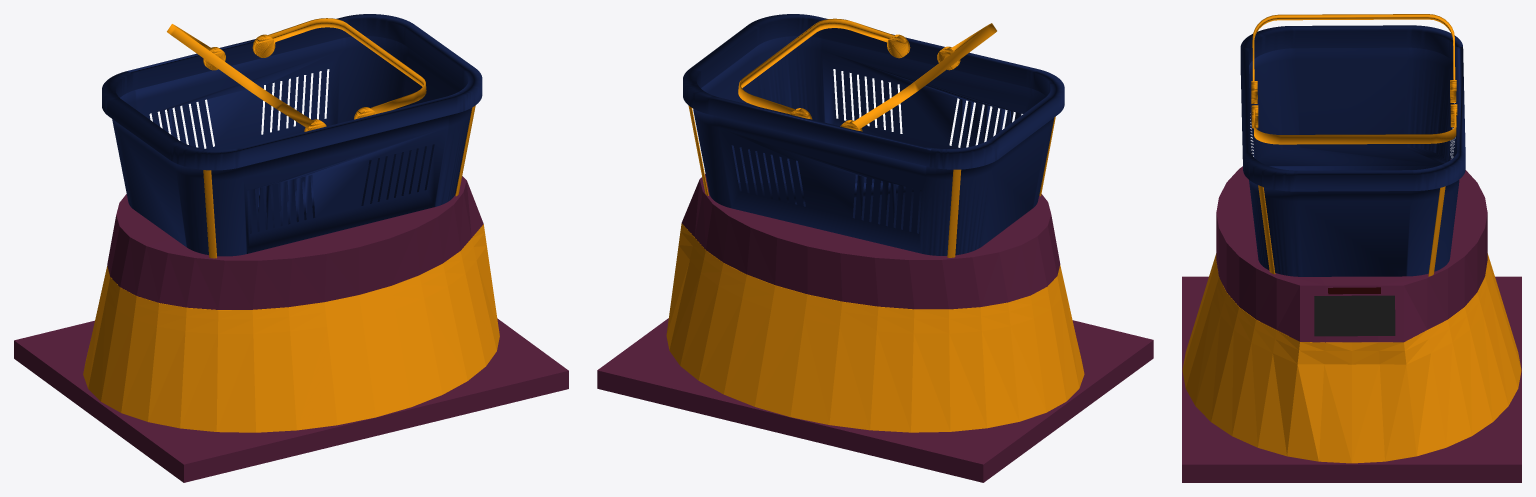
Rendered from BasketBotModel.dae.
The picture shows the model from 3 angles, left to right: view 1: azimuth 30°, elevation 25°; view 2: azimuth 150°, elevation 25°; view 3: azimuth 270°, elevation 25°; orthographic projection.
Visible parts, largest first — view 1: Basket, Body, ScreenBody, WheelBase, BasketHolder_Rear_Right; view 2: Basket, Body, ScreenBody, WheelBase, BasketHolder_Rear_Left; view 3: Basket, Body, ScreenBody, WheelBase, InfoScreen, BasketHolder_Front_Left, BasketHolder_Front_Right, ProductScanner.
Boxes of the visible parts, <box> form: Basket: <box>102,14,482,256</box>; Body: <box>83,224,499,432</box>; ScreenBody: <box>107,176,483,309</box>; WheelBase: <box>14,318,568,482</box>; BasketHolder_Rear_Right: <box>203,170,216,258</box>; Basket: <box>683,14,1064,255</box>; Body: <box>666,223,1084,432</box>; ScreenBody: <box>681,174,1060,309</box>; WheelBase: <box>597,318,1153,482</box>; BasketHolder_Rear_Left: <box>947,169,961,257</box>; Basket: <box>1240,14,1465,276</box>; Body: <box>1182,253,1521,463</box>; ScreenBody: <box>1216,159,1487,342</box>; WheelBase: <box>1182,276,1521,482</box>; InfoScreen: <box>1314,295,1395,336</box>; BasketHolder_Front_Left: <box>1428,186,1445,276</box>; BasketHolder_Front_Right: <box>1258,185,1275,274</box>; ProductScanner: <box>1328,287,1380,294</box>.
Bounding box in the file's own units: 1.1 × 0.84 × 0.9207.
